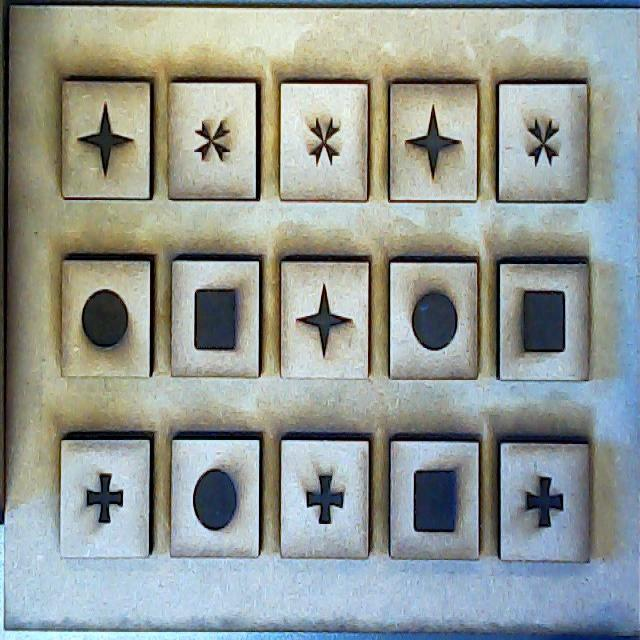circle: (391, 263, 481, 381), (173, 438, 260, 556), (64, 260, 152, 376)
maltese: (170, 81, 261, 202), (499, 81, 588, 204), (279, 85, 368, 202)
square: (389, 435, 479, 559), (500, 260, 588, 385), (173, 260, 257, 378)
star: (278, 255, 374, 379), (58, 79, 153, 203), (390, 81, 478, 204)
temple: (60, 436, 154, 560), (282, 434, 372, 557), (500, 442, 592, 562)
